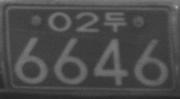0: (47, 10, 72, 33)
2: (75, 10, 99, 32)
4: (92, 37, 128, 85)
6: (133, 38, 169, 87), (53, 36, 88, 85), (13, 36, 47, 84)
두: (102, 10, 126, 33)
